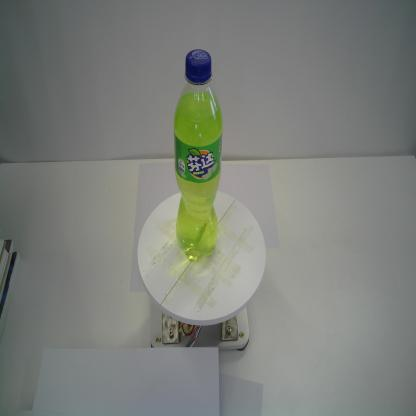Drink: (172, 46, 224, 264)
